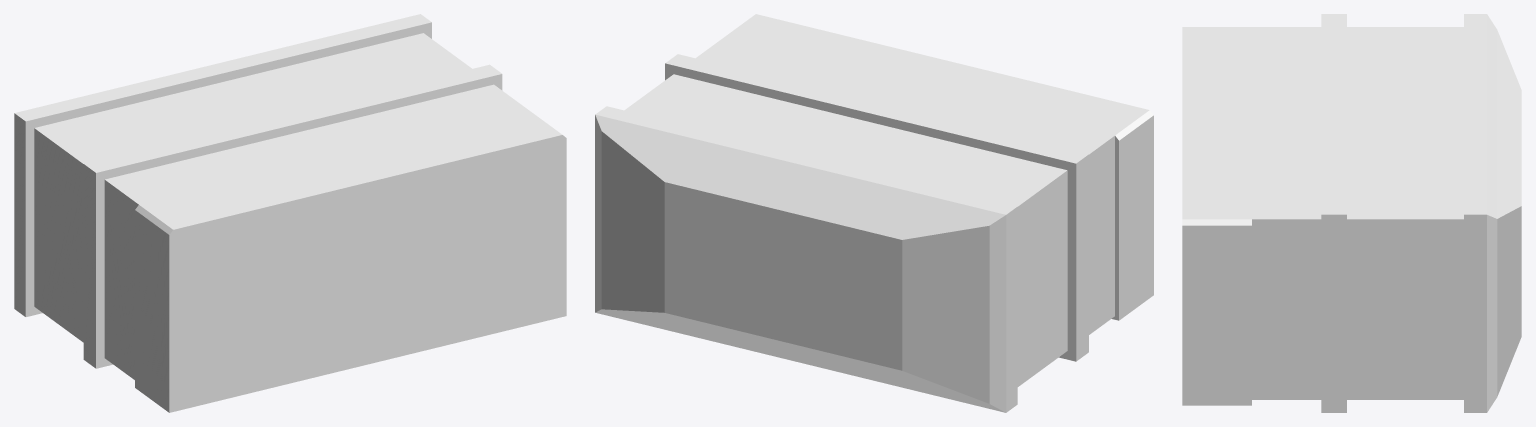
Rendered from venice_building_3.fbx.
The picture shows the model from 3 angles, left to right: view 1: azimuth 30°, elevation 25°; view 2: azimuth 150°, elevation 25°; view 3: azimuth 270°, elevation 25°; orthographic projection.
Visible parts, largest first — view 1: Cube.253; view 2: Cube.253; view 3: Cube.253.
Boxes of the visible parts, x1,y1,x2,y2 form: Cube.253: [14, 14, 566, 412]; Cube.253: [595, 14, 1153, 412]; Cube.253: [1182, 14, 1521, 412].
Size of the model in its own units: 1469 by 677 by 1049.
